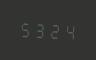five: (18, 18, 31, 39)
four: (60, 20, 73, 41)
three: (32, 19, 45, 39)
two: (46, 19, 59, 40)
